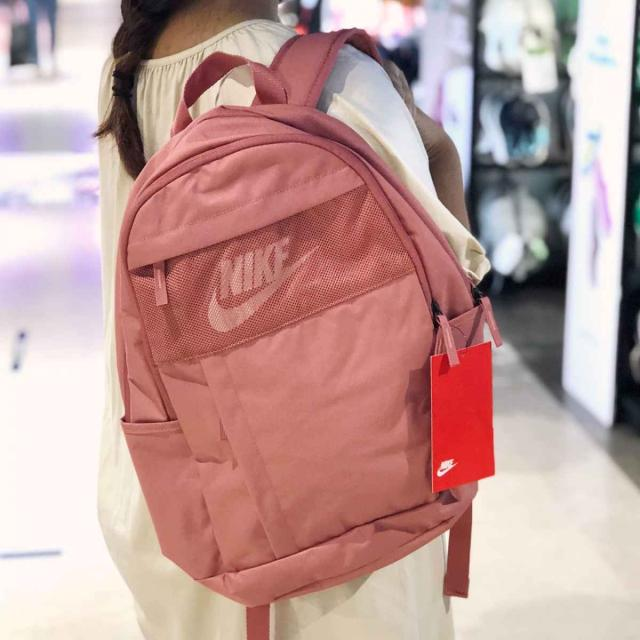handbag: (117, 93, 485, 640)
